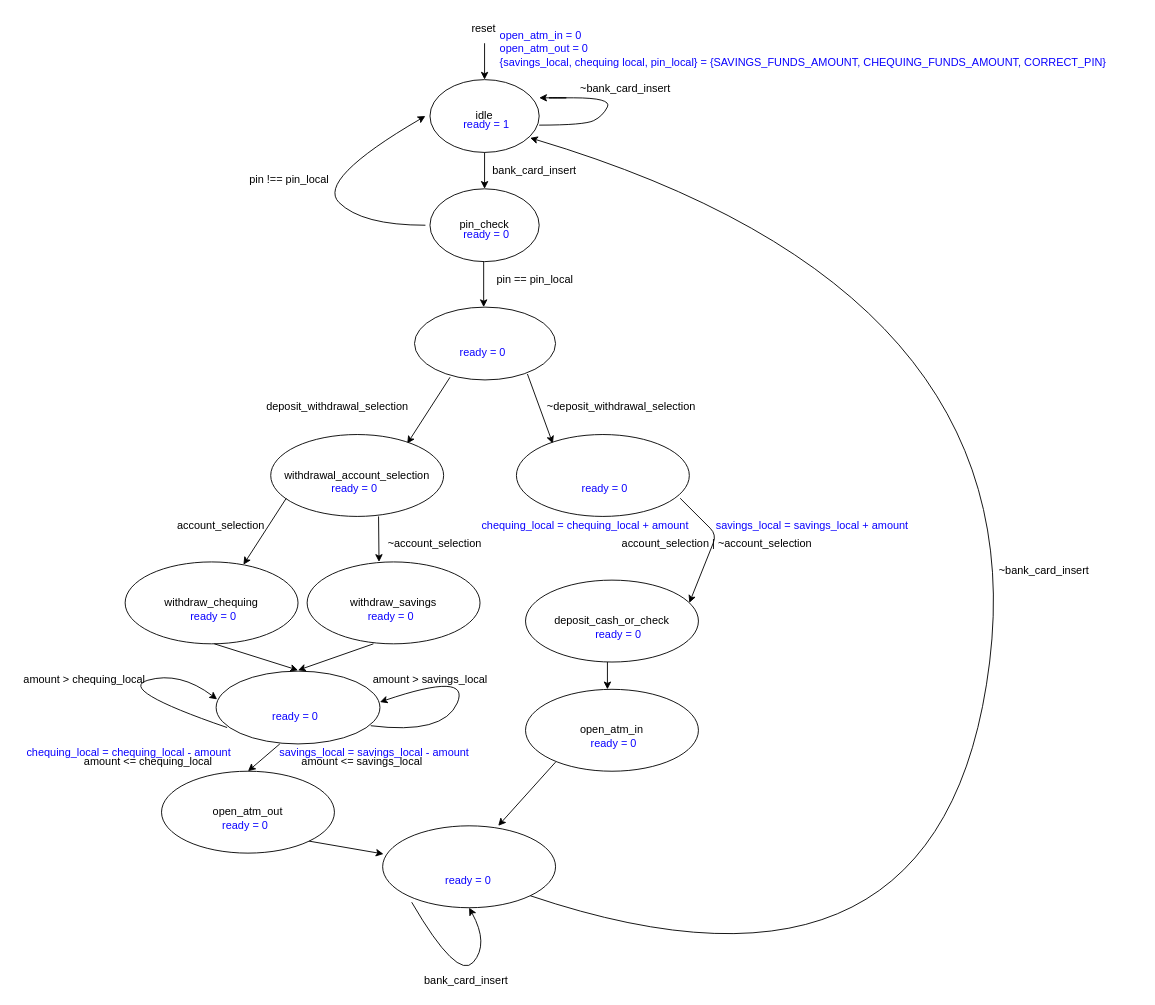
The diagram is 1155 pixels wide and 1005 high, and some of its shapes have lost their labels. Here are the shapes that lost their labels. From the top down, the box of each, then its label:
(414, 306, 556, 380): select_deposit_withdrawal
(516, 434, 689, 516): deposit_account_selection
(215, 670, 380, 744): insufficient_funds_check
(382, 825, 556, 908): withdraw_card
